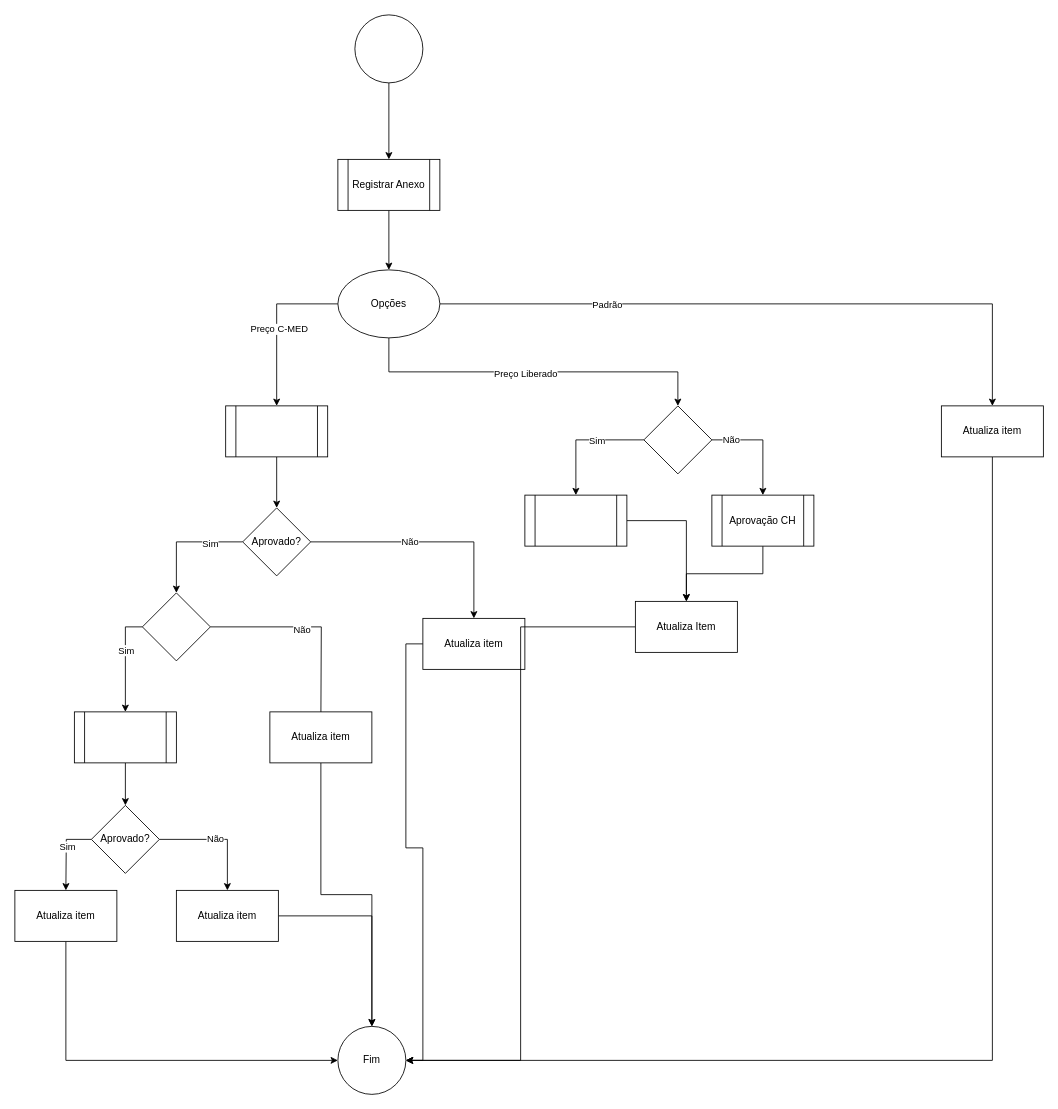
The diagram is 1058 pixels wide and 1109 high, and some of its shapes have lost their labels. Here are the shapes that lost their labels. From the top down, the centre of each, then its label:
point 388,48: Quando um novo item é criado
point 276,431: Aprovação Gerente Preços
point 677,439: Radiologia?
point 575,520: Aprovação Radiologia
point 176,626: ZWPC?
point 125,737: Aprovação Fiscal
